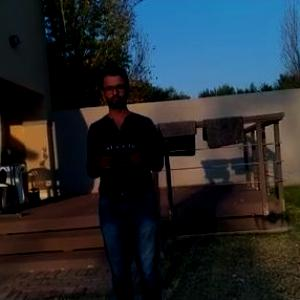follow: (82, 57, 172, 299)
